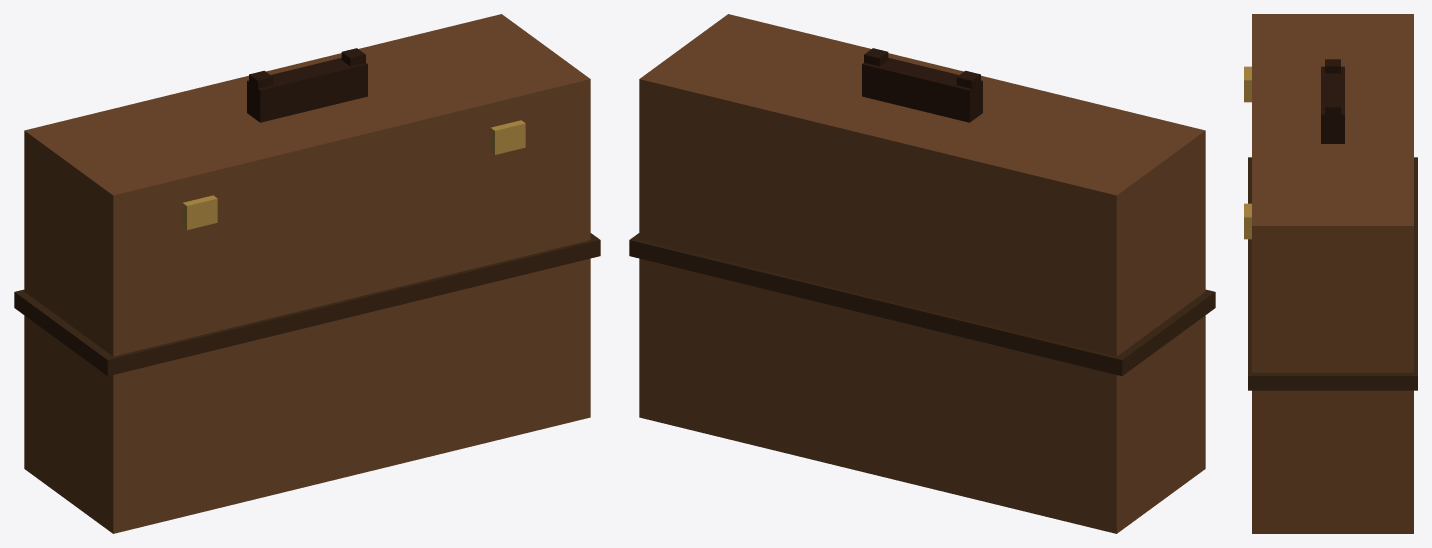
File: suitcase.glb
The picture shows the model from 3 angles, left to right: view 1: azimuth 30°, elevation 25°; view 2: azimuth 150°, elevation 25°; view 3: azimuth 270°, elevation 25°; orthographic projection. The views are drawn at different scales.
Parts seen in each view (by area): view 1: object 1, box (×2); view 2: object 1; view 3: object 1, box (×4).
Part boxes in pixels (box(x1,y1,x2,y2)): object 1: box(14, 14, 600, 533); box (×2): box(182, 120, 525, 229); object 1: box(629, 14, 1215, 533); object 1: box(1248, 14, 1417, 533); box (×4): box(1244, 59, 1340, 239).
Size of the model in its own units: 0.64 by 0.47 by 0.215.
